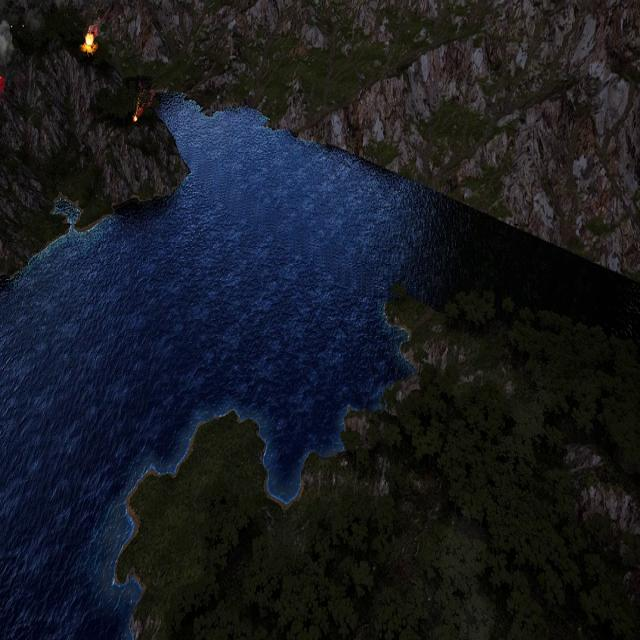fire: (84, 30, 98, 51), (133, 103, 143, 123)
smoke: (0, 19, 14, 92)
